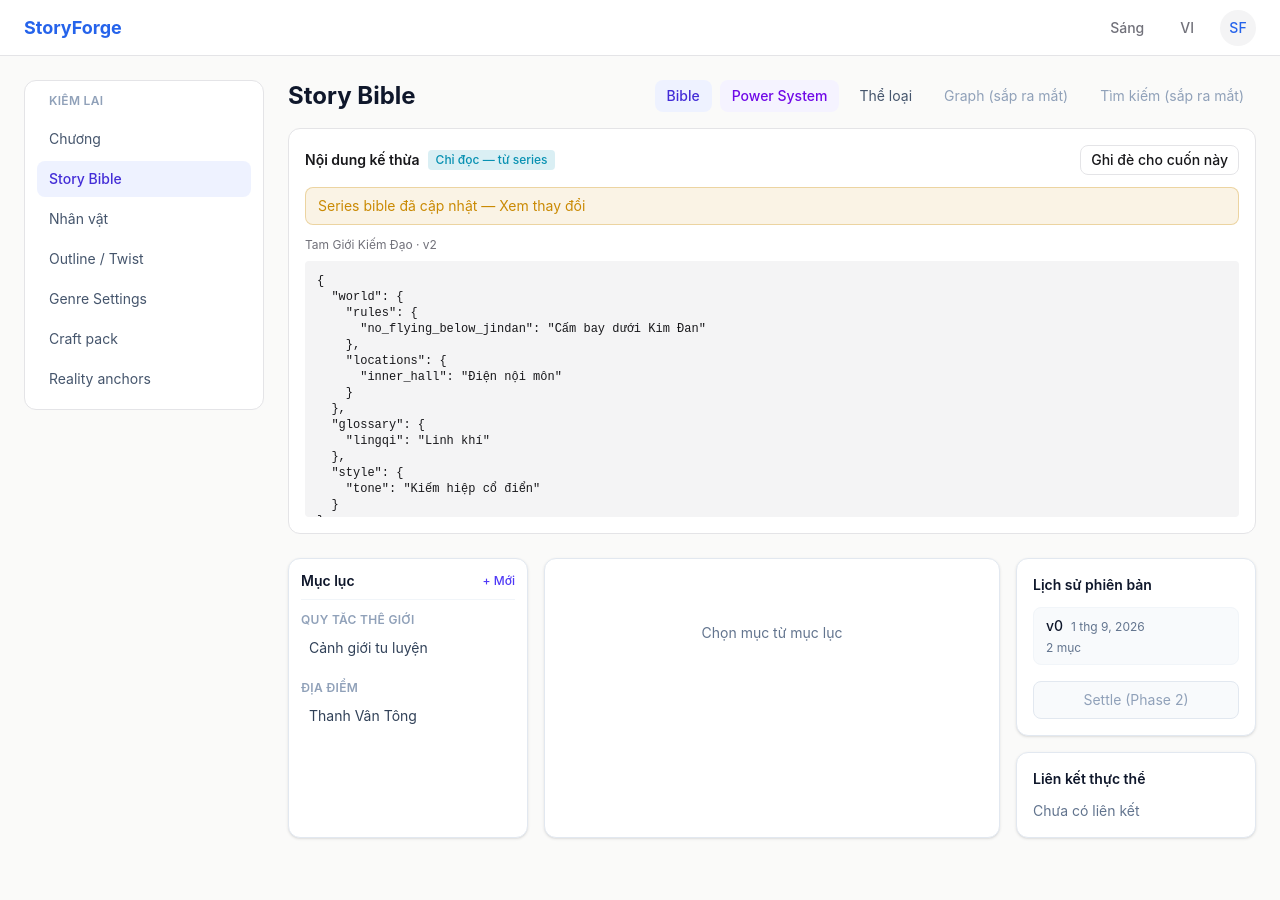
Test case: StoryBiblePage › loads and displays entry
Click the button "Cảnh giới tu luyện" at (408, 648), box x1=301 y1=632 x2=515 y2=664
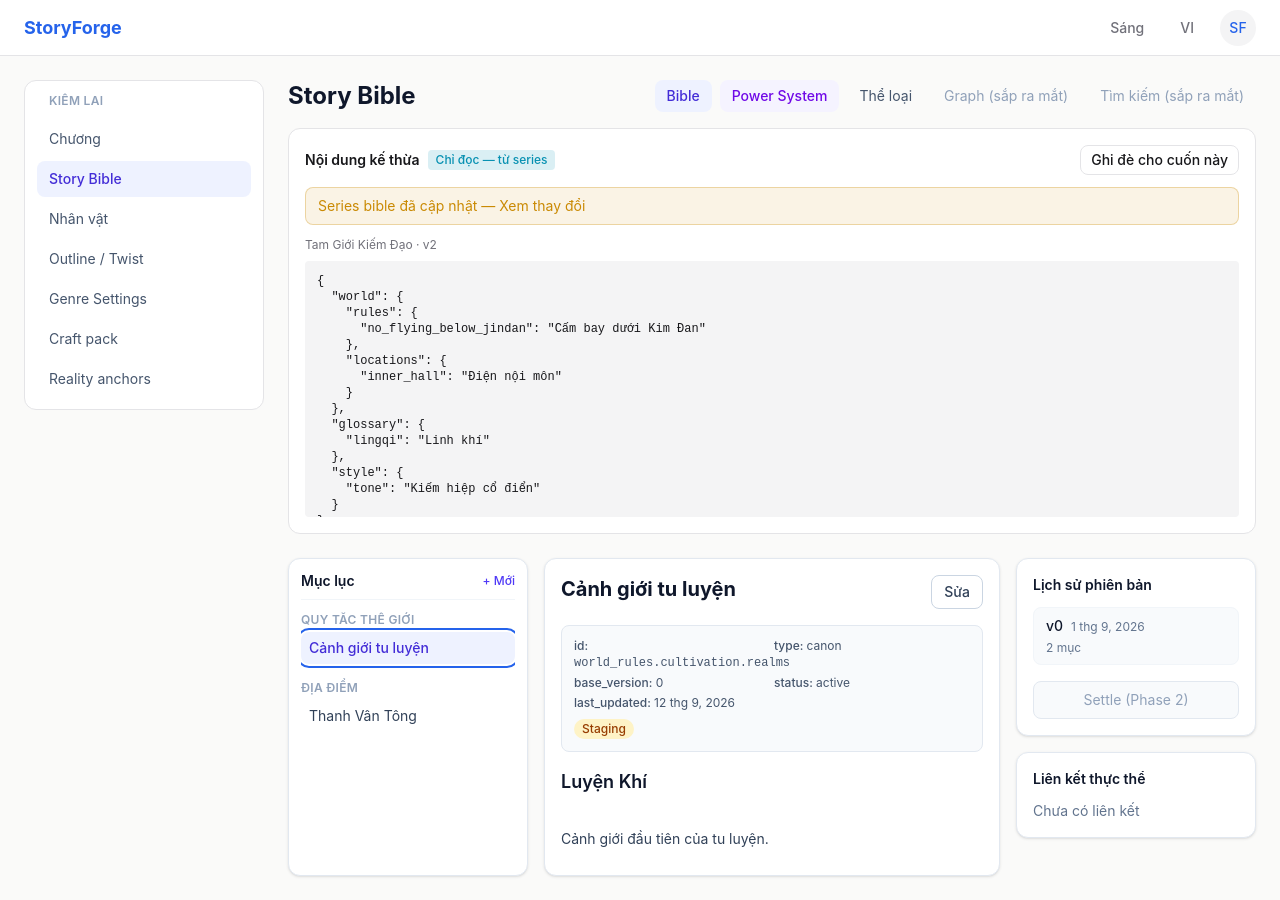
Now the heading "Cảnh giới tu luyện" is shown, box x1=561 y1=575 x2=736 y2=603
Now the text "Staging" is shown, box x1=574 y1=719 x2=634 y2=739
